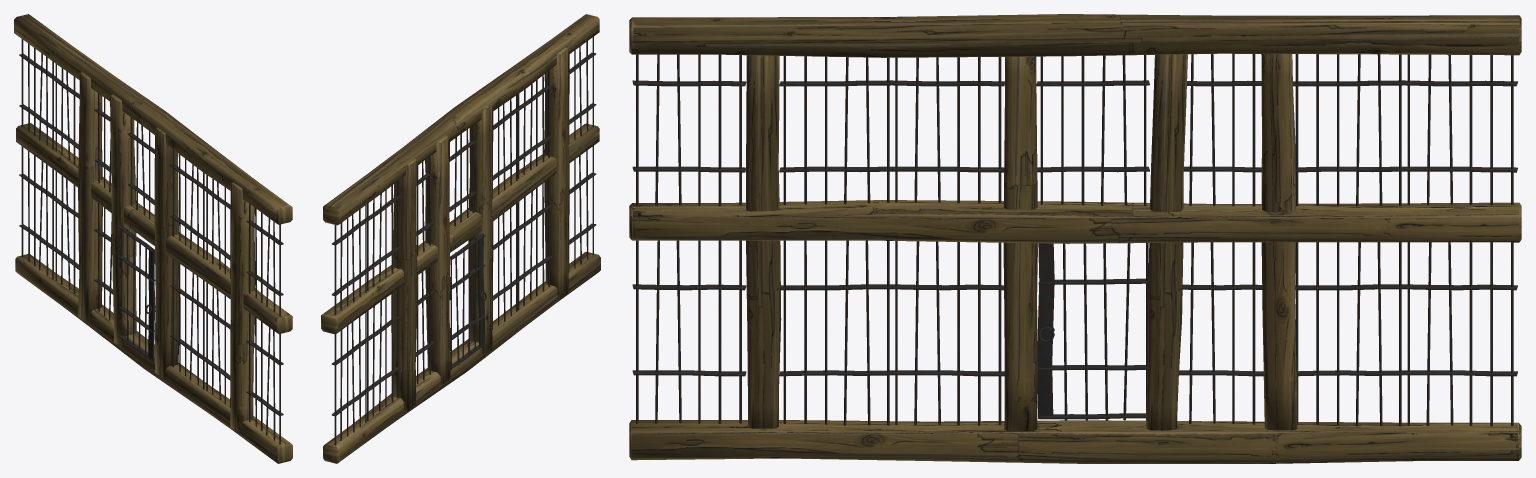
The model's file is wallJailDoorLowPoly.fbx.
3 views of the same model, side by side, from view 1: azimuth 30°, elevation 25°; view 2: azimuth 150°, elevation 25°; view 3: azimuth 270°, elevation 25° (orthographic). The views are drawn at different scales.
Parts seen in each view (by area): view 1: beamMedium9, polySurface376, polySurface138; view 2: beamMedium9, polySurface376, polySurface138; view 3: beamMedium9, polySurface376, polySurface138.
Boxes of the visible parts, bbox=[...] form: beamMedium9: bbox=[14, 14, 292, 463]; polySurface376: bbox=[19, 39, 283, 444]; polySurface138: bbox=[118, 225, 155, 361]; beamMedium9: bbox=[321, 14, 600, 463]; polySurface376: bbox=[331, 36, 596, 445]; polySurface138: bbox=[449, 233, 486, 369]; beamMedium9: bbox=[629, 14, 1521, 463]; polySurface376: bbox=[632, 53, 1517, 426]; polySurface138: bbox=[1037, 243, 1148, 420].
Bounding box in the file's own units: 0.4637 × 4.44 × 8.17.
